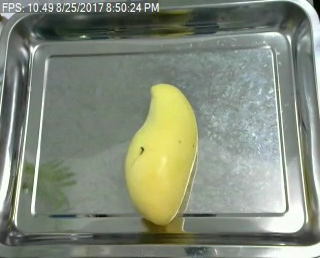Mango: (123, 80, 202, 231)
